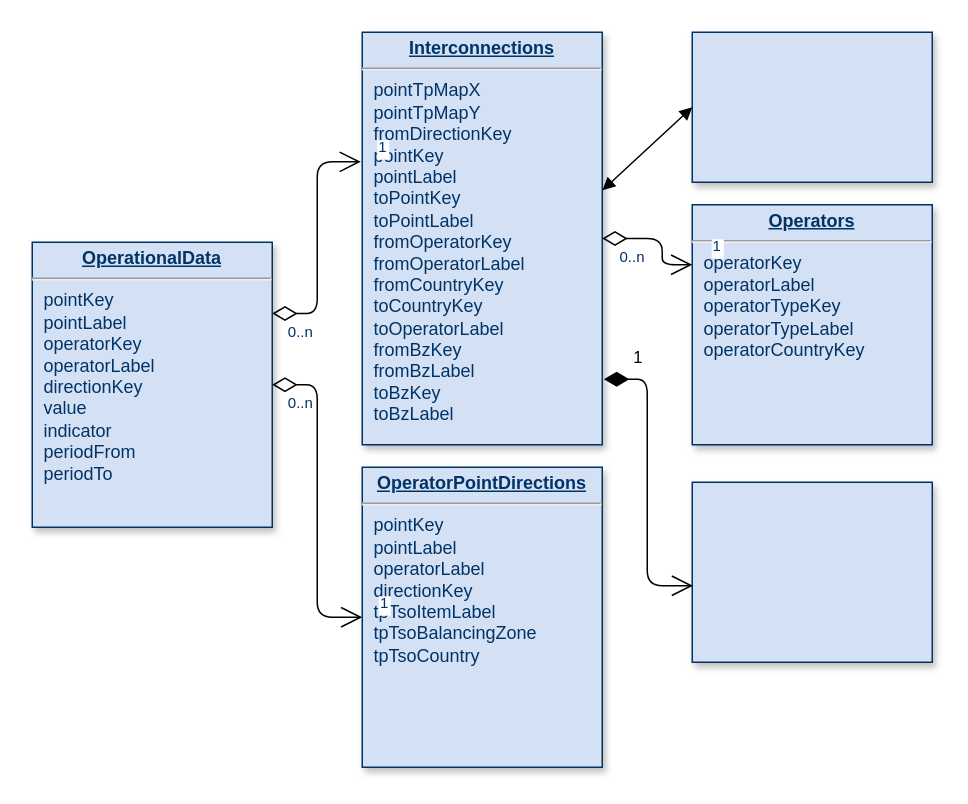
This 968x804 diagram has some shape labels left out. The centre of each missing label's shape, as x and y in pixels:
"Balancing Zones tpMapX tpMapY bzLabel" goes at (813,574).
"ConnectionPoints tpMapX tpMapY pointKey pointLabel" goes at (813,109).
